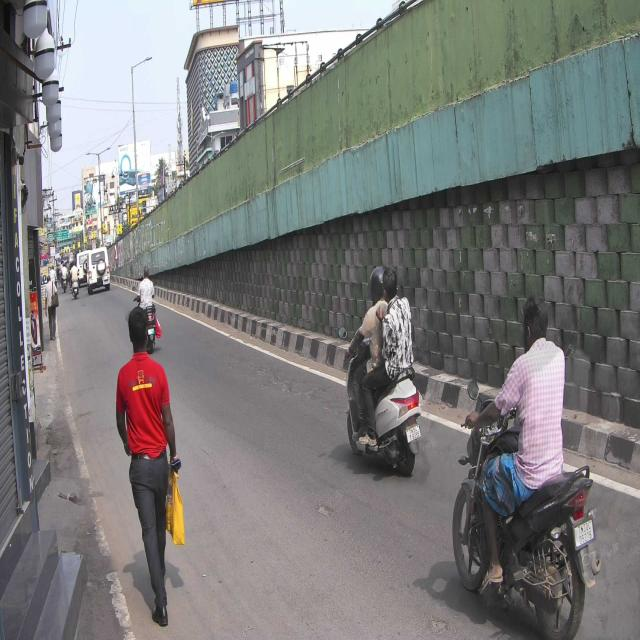double_rider: (337, 264, 423, 473)
single_rider: (453, 292, 602, 640)
